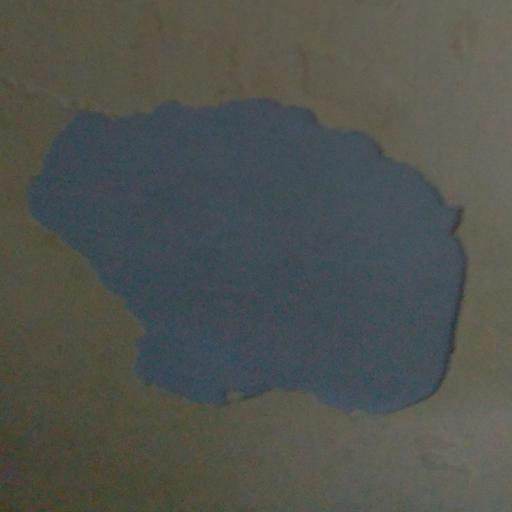peeling: (12, 88, 473, 430)
